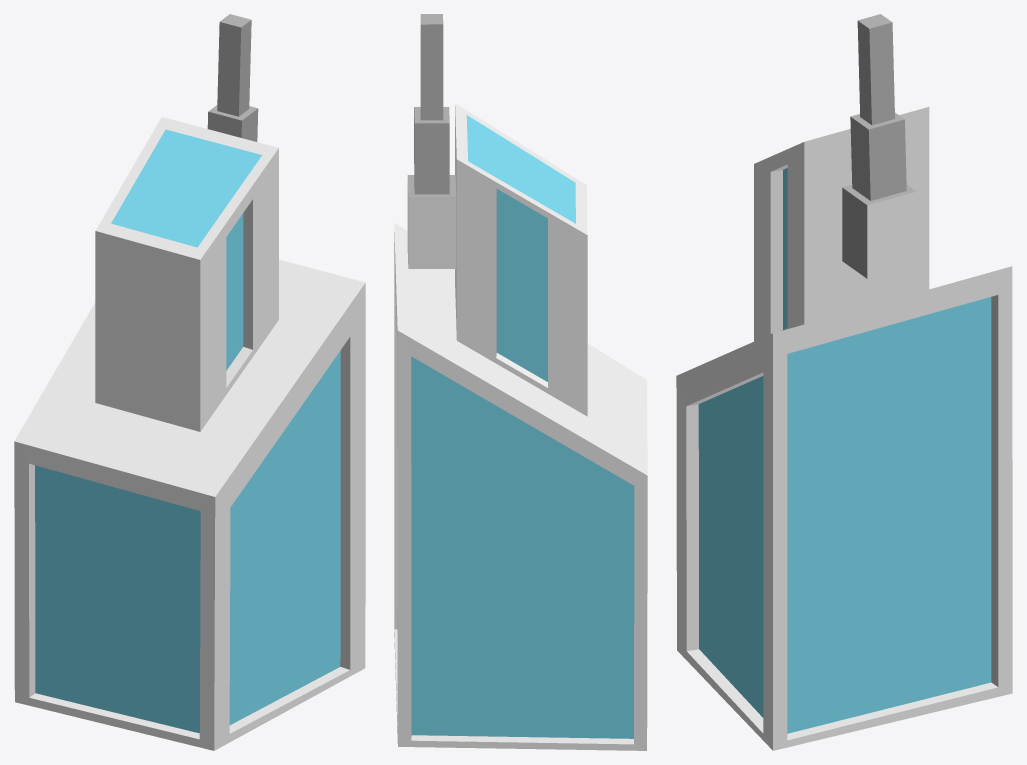
The model's file is Skyscraper_07.fbx.
3 views of the same model, side by side, from view 1: azimuth 30°, elevation 25°; view 2: azimuth 150°, elevation 25°; view 3: azimuth 270°, elevation 25° (orthographic). The views are drawn at different scales.
Visible parts, largest first — view 1: Building_22; view 2: Building_22; view 3: Building_22.
Boxes of the visible parts, x1,y1,x2,y2 form: Building_22: (14, 14, 365, 750); Building_22: (394, 14, 647, 750); Building_22: (676, 14, 1012, 750).
Bounding box in the file's own units: 6647 × 13656 × 6037.
